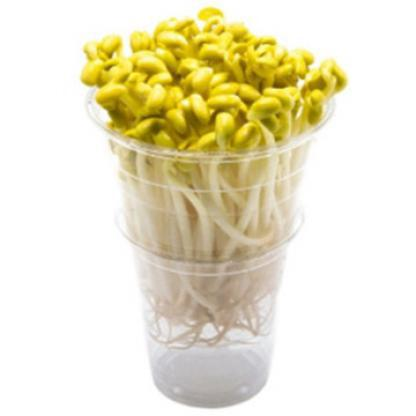bean sprouts: (102, 16, 328, 143)
